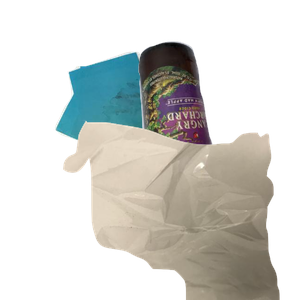glass: (136, 39, 300, 219)
paper: (52, 49, 209, 198)
plastic: (92, 176, 257, 300)
trash: (61, 120, 300, 300)
